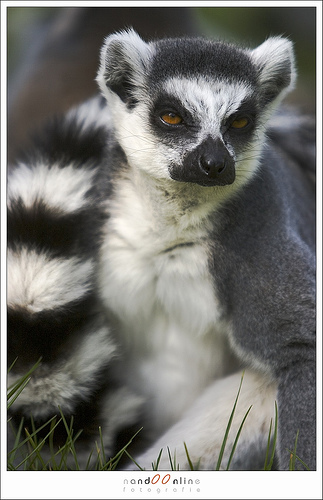cat: (6, 2, 321, 475)
